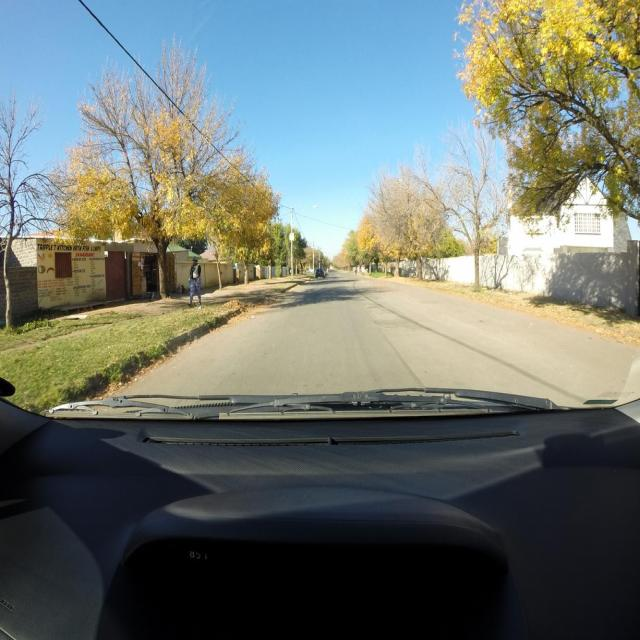Pothole: (365, 304, 382, 309), (381, 324, 396, 329)
